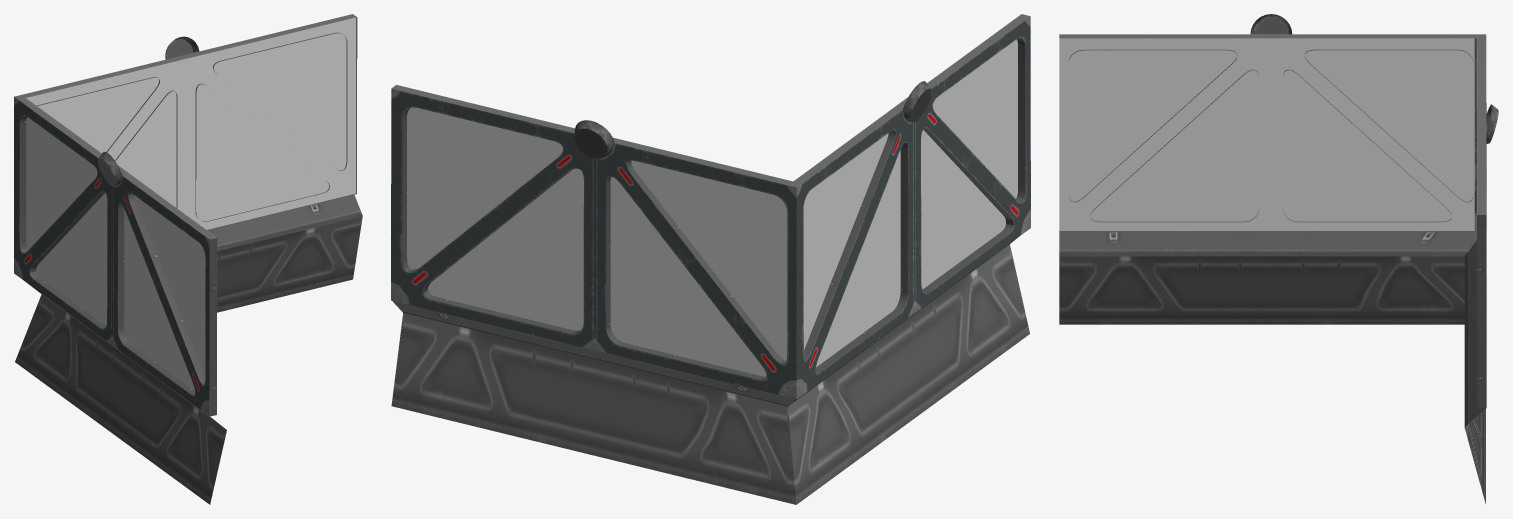
File: wall-window-outer-DYDRrMqL.glb
The picture shows the model from 3 angles, left to right: view 1: azimuth 30°, elevation 25°; view 2: azimuth 150°, elevation 25°; view 3: azimuth 270°, elevation 25°; orthographic projection. The views are drawn at different scales.
Visible parts, largest first — view 1: WallWindow_Corner_Square_Outer; view 2: WallWindow_Corner_Square_Outer; view 3: WallWindow_Corner_Square_Outer.
Boxes of the visible parts, bbox=[...] form: WallWindow_Corner_Square_Outer: bbox=[14, 14, 362, 504]; WallWindow_Corner_Square_Outer: bbox=[391, 14, 1030, 504]; WallWindow_Corner_Square_Outer: bbox=[1059, 14, 1498, 504].
Bounding box in the file's own units: 4.12 × 3.19 × 4.12.
Materials: 4 (3 with a texture image).
